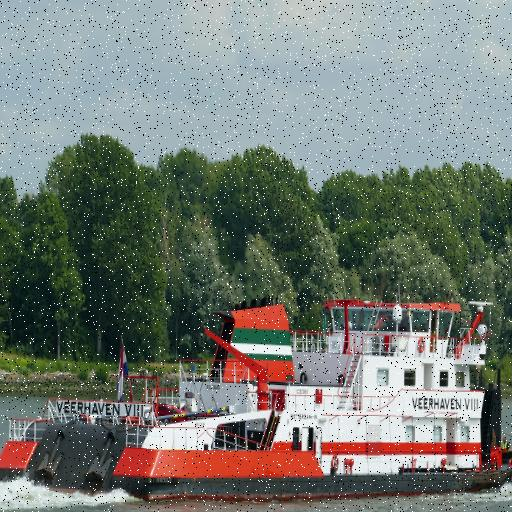tugboat: (1, 276, 512, 512)
